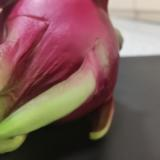pitaya: (1, 1, 124, 152)
